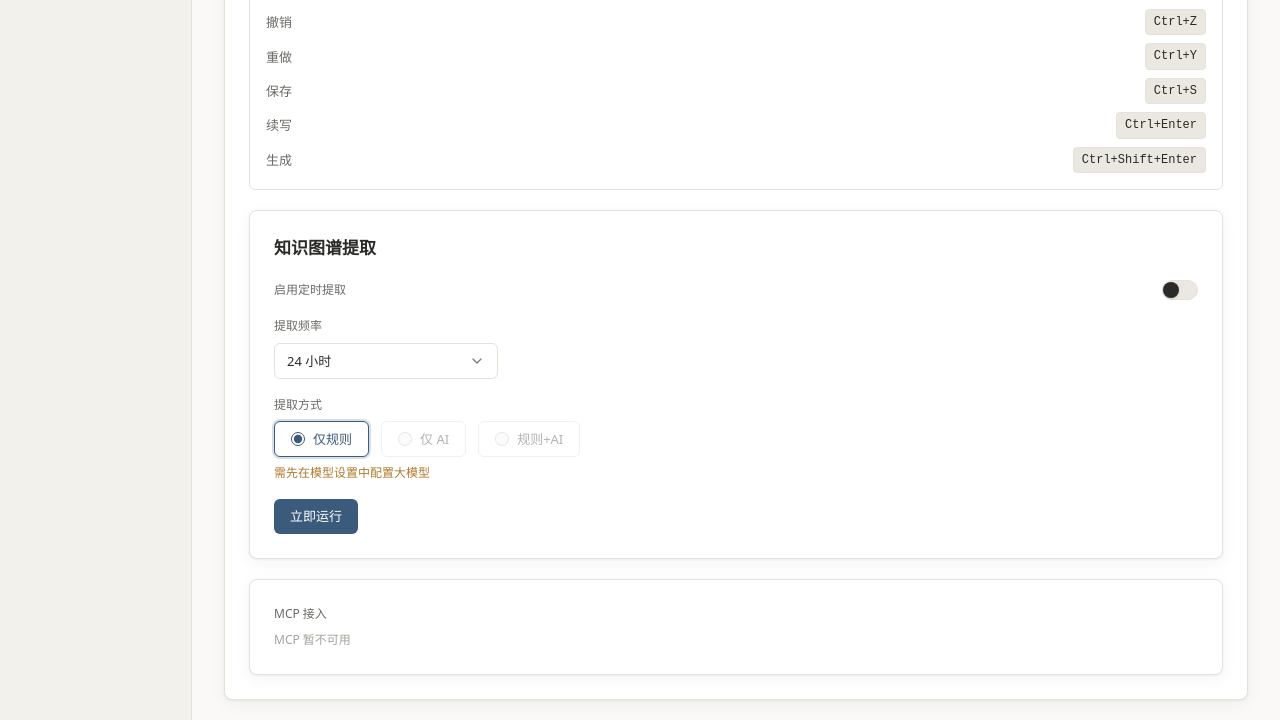
设置页 — 知识图谱提取卡片（#479，spec §5.5.7） › 契约1c：提取频率选项 = 1/6/12/24/72/168 小时（Select 展开 → 六选项）
The image size is (1280, 720).
(page scrolled)
Click the dropdown with test id "kg-extract-interval".
click(386, 361)  # box left=274, top=343, right=498, bottom=379
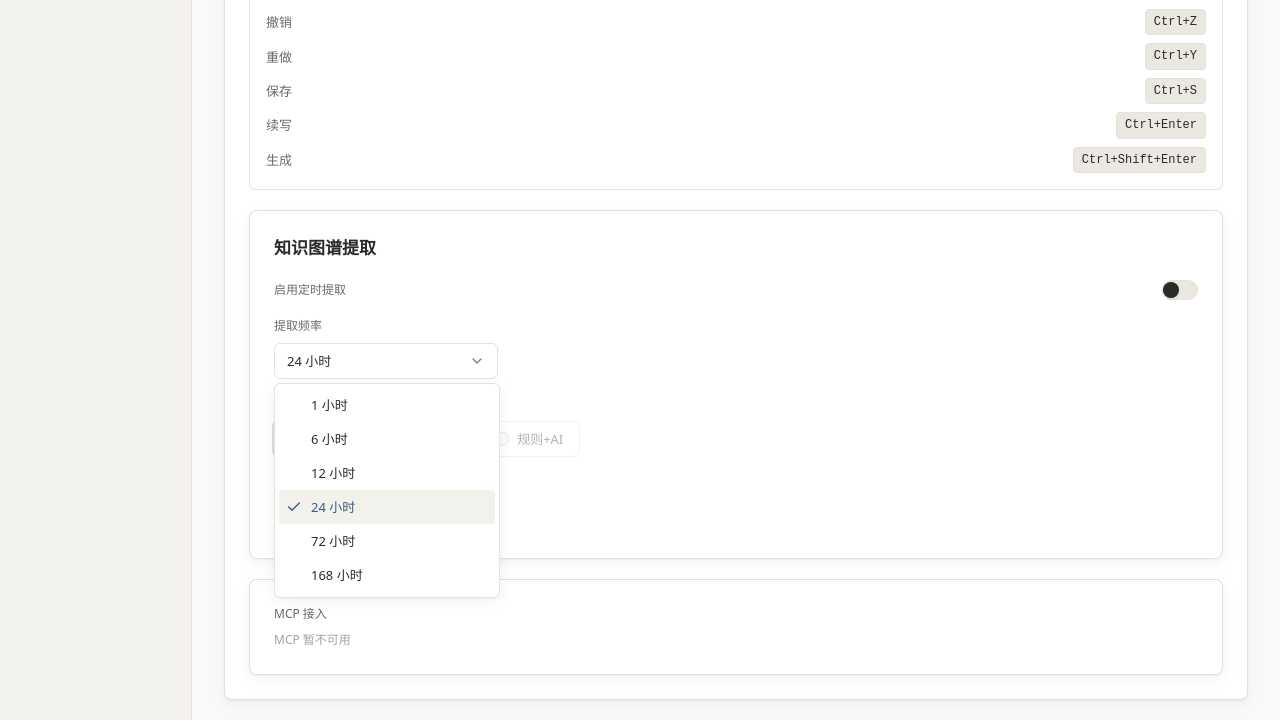
Check: the option "1 小时" is shown, box left=311, top=396, right=348, bottom=414
Check: the option "6 小时" is shown, box left=311, top=430, right=348, bottom=448
Check: the option "12 小时" is shown, box left=311, top=464, right=355, bottom=482
